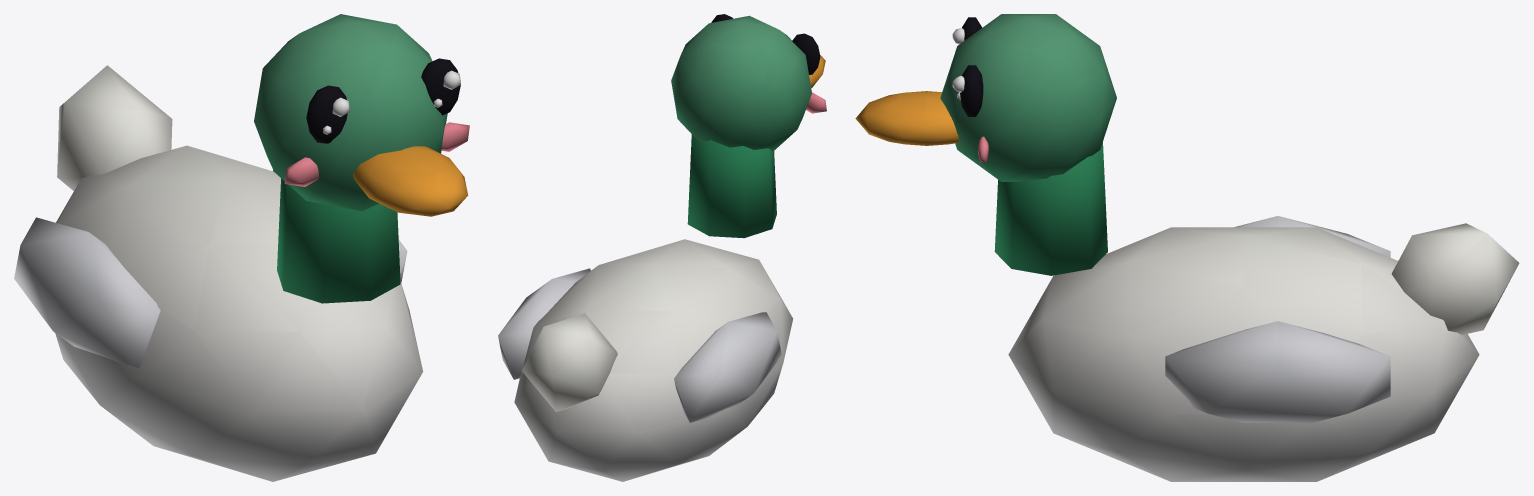
The model's file is duck.glb.
3 renders of one model, left to right at view 1: azimuth 30°, elevation 25°; view 2: azimuth 150°, elevation 25°; view 3: azimuth 270°, elevation 25°, orthographic. The views are drawn at different scales.
Parts seen in each view (by area): view 1: Body, HeadMesh; view 2: Body, HeadMesh; view 3: Body, HeadMesh.
Part boxes in pixels (left/top/right/bottom): Body: left=14, top=65, right=423, bottom=481; HeadMesh: left=254, top=14, right=469, bottom=303; Body: left=498, top=239, right=792, bottom=481; HeadMesh: left=671, top=14, right=826, bottom=238; Body: left=1008, top=216, right=1519, bottom=481; HeadMesh: left=855, top=14, right=1116, bottom=275.
Size of the model in its own units: 0.2844 by 0.4432 by 0.5863.
